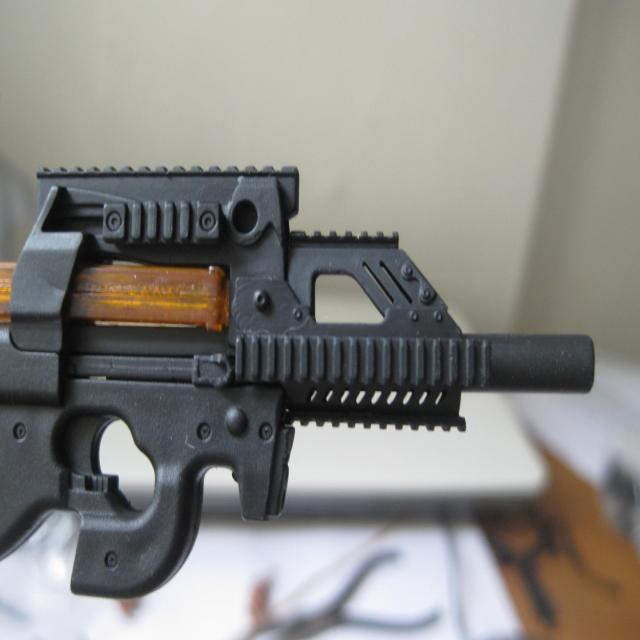Gun: (0, 79, 603, 639)
